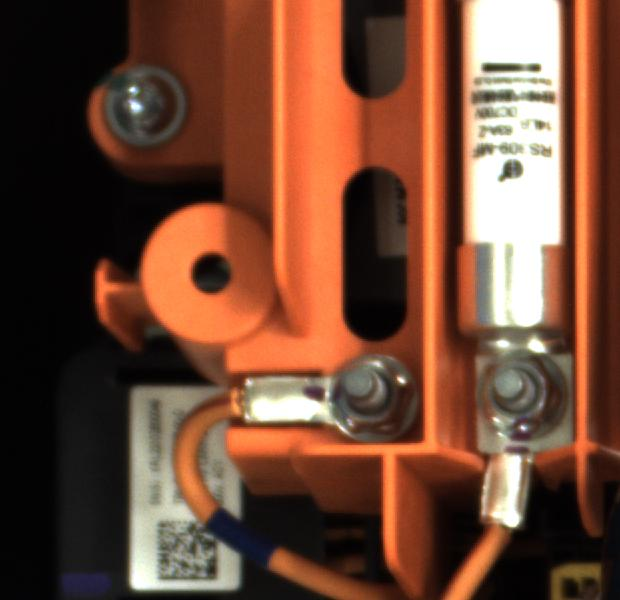screw_m: (92, 62, 202, 156)
screw_s: (464, 351, 572, 453), (328, 344, 417, 440)
